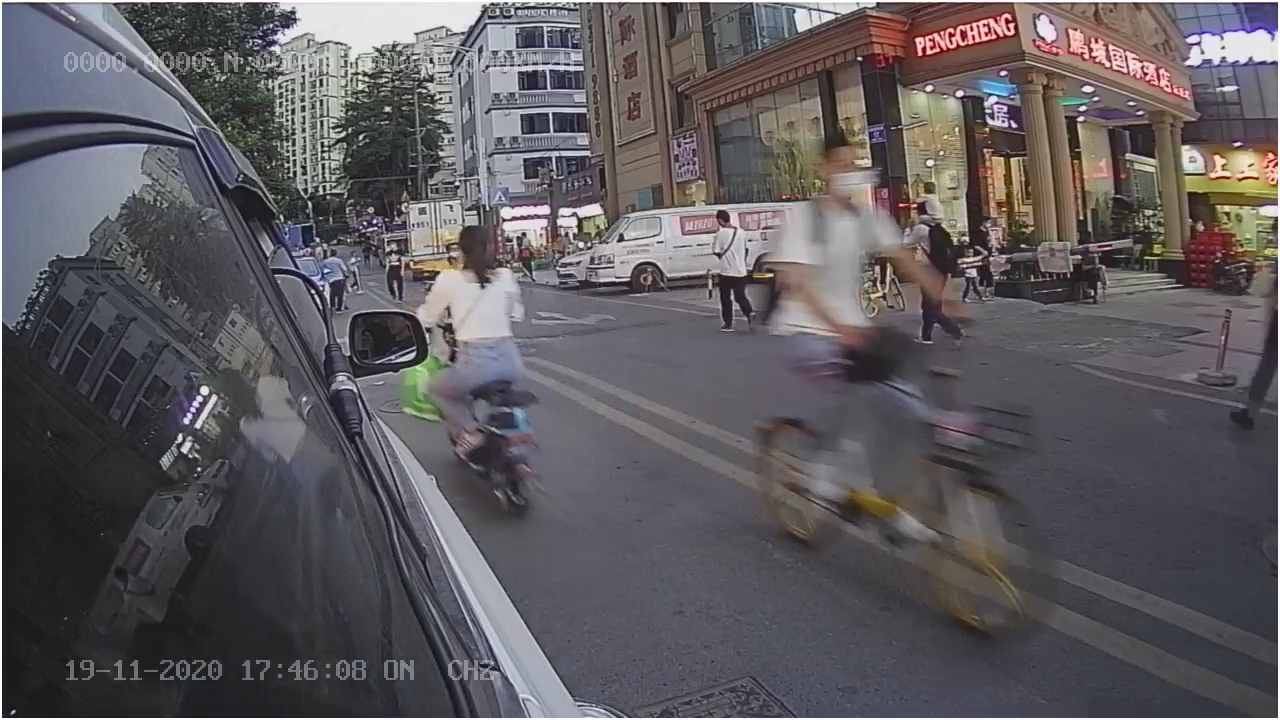person: (765, 142, 915, 377), (425, 224, 538, 403)
